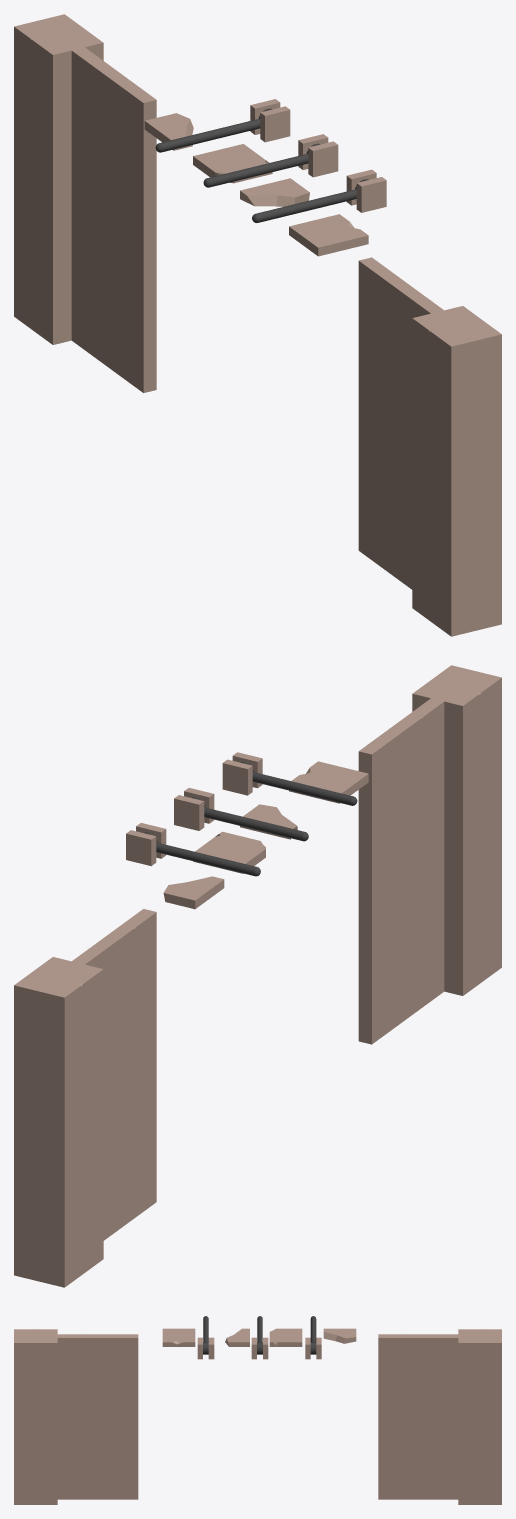
Rendered from Nivel7.fbx.
3 views of the same model, one above another, from view 1: azimuth 30°, elevation 25°; view 2: azimuth 150°, elevation 25°; view 3: azimuth 270°, elevation 25° (orthographic). The views are drawn at different scales.
Parts seen in each view (by area): view 1: Plataforma-M.007, Plataforma-M.010, Plataforma-M.008, Plataforma-M.009, Cubo.026, Cubo.025, Cubo.023, Cubo.028, Cubo.027, Cubo.029, Círculo.004, Círculo.003 (+2 smaller); view 2: Plataforma-M.008, Plataforma-M.009, Plataforma-M.007, Plataforma-M.010, Cubo.026, Cubo.025, Cubo.028, Cubo.027, Cubo.029, Cubo.024, Círculo.005, Círculo.004 (+2 smaller); view 3: Plataforma-M.009, Plataforma-M.010, Plataforma-M.007, Plataforma-M.008, Cubo.026, Cubo.025, Cubo.024, Cubo.023, Cubo.029, Cubo.027, Cubo.028, Círculo.003 (+2 smaller).
Boxes of the visible parts, bbox=[...] form: Plataforma-M.007: bbox=[412, 306, 501, 636]; Plataforma-M.010: bbox=[71, 47, 156, 392]; Plataforma-M.008: bbox=[14, 14, 103, 344]; Plataforma-M.009: bbox=[358, 257, 443, 589]; Cubo.026: bbox=[289, 214, 368, 256]; Cubo.025: bbox=[193, 144, 272, 183]; Cubo.023: bbox=[240, 178, 309, 206]; Cubo.028: bbox=[298, 134, 338, 177]; Cubo.027: bbox=[250, 99, 290, 142]; Cubo.029: bbox=[346, 169, 386, 212]; Círculo.004: bbox=[203, 143, 320, 187]; Círculo.003: bbox=[155, 108, 272, 152]; Plataforma-M.008: bbox=[14, 957, 103, 1287]; Plataforma-M.009: bbox=[358, 698, 444, 1044]; Plataforma-M.007: bbox=[412, 665, 501, 995]; Plataforma-M.010: bbox=[72, 909, 156, 1240]; Cubo.026: bbox=[289, 761, 368, 803]; Cubo.025: bbox=[193, 831, 265, 873]; Cubo.028: bbox=[174, 788, 214, 830]; Cubo.027: bbox=[126, 823, 166, 866]; Cubo.029: bbox=[222, 752, 262, 795]; Cubo.024: bbox=[163, 876, 224, 909]; Círculo.005: bbox=[240, 762, 357, 805]; Círculo.004: bbox=[192, 797, 308, 841]; Plataforma-M.009: bbox=[57, 1334, 138, 1499]; Plataforma-M.010: bbox=[378, 1334, 458, 1499]; Plataforma-M.007: bbox=[14, 1329, 57, 1504]; Plataforma-M.008: bbox=[458, 1329, 501, 1504]; Cubo.026: bbox=[162, 1328, 195, 1346]; Cubo.025: bbox=[269, 1328, 302, 1346]; Cubo.024: bbox=[323, 1328, 356, 1343]; Cubo.023: bbox=[225, 1328, 249, 1346]; Cubo.029: bbox=[197, 1337, 214, 1359]; Cubo.027: bbox=[305, 1337, 321, 1359]; Cubo.028: bbox=[251, 1337, 268, 1359]; Círculo.003: bbox=[310, 1316, 316, 1354].
Size of the model in its own units: 3041 by 7144 by 18182.
